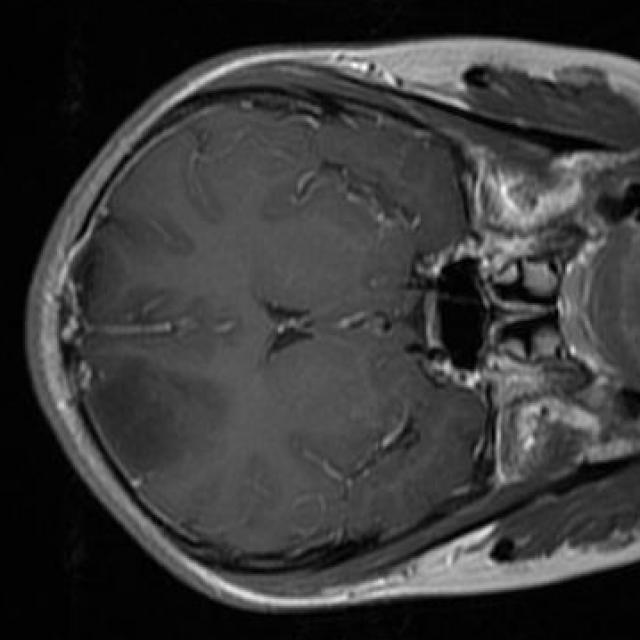glioma: (89, 358, 226, 478)
